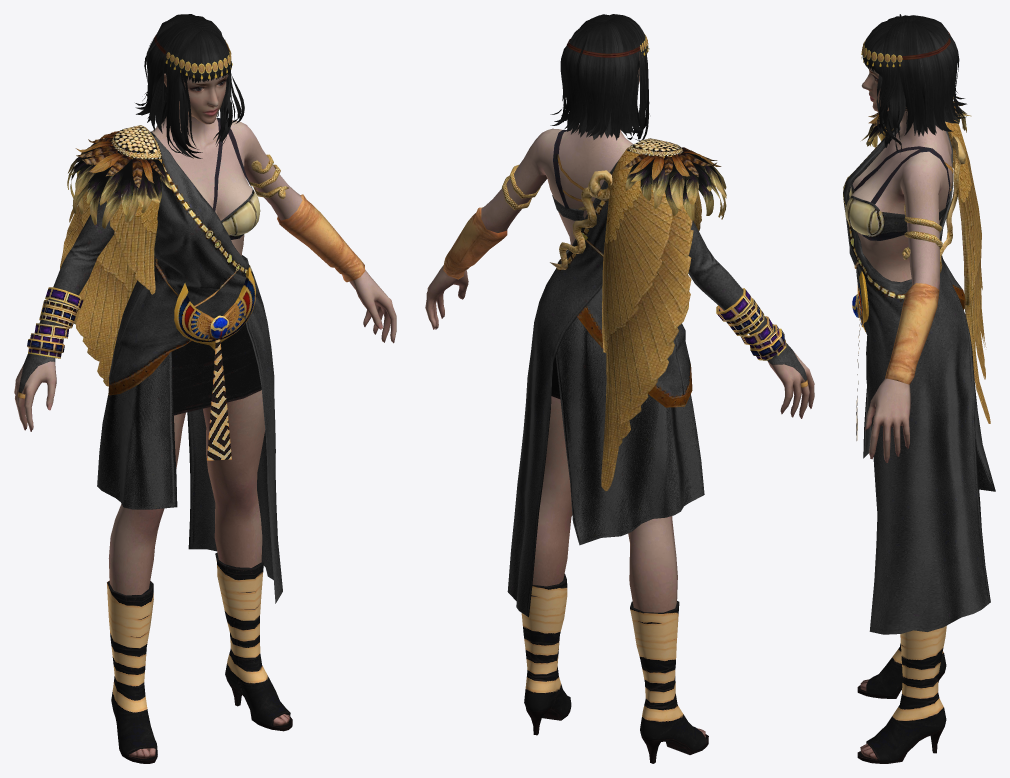
Rendered from ImperialEgypt_Female.fbx.
The picture shows the model from 3 angles, left to right: view 1: azimuth 30°, elevation 25°; view 2: azimuth 150°, elevation 25°; view 3: azimuth 270°, elevation 25°; orthographic projection. The views are drawn at different scales.
Parts seen in each view (by area): view 1: Female_Lobby_Top_Cos_Imperialegypt_0, Female_Lobby_Bottom_Cos_Imperialegypt_1, Female_Lobby_Shoe_Cos_Imperialegypt_0, Female_Lobby_Bottom_Cos_Imperialegypt_0, Female_Lobby_Top_Cos_Imperialegypt_1, Female_Lobby_Hair_Cos_Imperialegypt_0, Female_Lobby_Head_Cos_Imperialegypt_0, Female_Lobby_Hair_Cos_Imperialegypt_1; view 2: Female_Lobby_Top_Cos_Imperialegypt_0, Female_Lobby_Bottom_Cos_Imperialegypt_1, Female_Lobby_Shoe_Cos_Imperialegypt_0, Female_Lobby_Hair_Cos_Imperialegypt_0, Female_Lobby_Top_Cos_Imperialegypt_1, Female_Lobby_Bottom_Cos_Imperialegypt_0; view 3: Female_Lobby_Top_Cos_Imperialegypt_0, Female_Lobby_Top_Cos_Imperialegypt_1, Female_Lobby_Hair_Cos_Imperialegypt_0, Female_Lobby_Shoe_Cos_Imperialegypt_0, Female_Lobby_Bottom_Cos_Imperialegypt_1, Female_Lobby_Hair_Cos_Imperialegypt_1, Female_Lobby_Head_Cos_Imperialegypt_0.
Part boxes in pixels (x1,y1,x2,y2): Female_Lobby_Top_Cos_Imperialegypt_0: [17, 118, 364, 603]; Female_Lobby_Bottom_Cos_Imperialegypt_1: [97, 267, 261, 509]; Female_Lobby_Shoe_Cos_Imperialegypt_0: [107, 552, 292, 763]; Female_Lobby_Bottom_Cos_Imperialegypt_0: [108, 390, 289, 758]; Female_Lobby_Top_Cos_Imperialegypt_1: [14, 109, 396, 431]; Female_Lobby_Hair_Cos_Imperialegypt_0: [135, 14, 244, 158]; Female_Lobby_Head_Cos_Imperialegypt_0: [164, 70, 228, 124]; Female_Lobby_Hair_Cos_Imperialegypt_1: [154, 35, 232, 79]; Female_Lobby_Top_Cos_Imperialegypt_0: [443, 130, 808, 617]; Female_Lobby_Bottom_Cos_Imperialegypt_1: [551, 317, 704, 545]; Female_Lobby_Shoe_Cos_Imperialegypt_0: [521, 574, 708, 763]; Female_Lobby_Hair_Cos_Imperialegypt_0: [550, 14, 649, 140]; Female_Lobby_Top_Cos_Imperialegypt_1: [425, 124, 814, 418]; Female_Lobby_Bottom_Cos_Imperialegypt_0: [532, 396, 705, 737]; Female_Lobby_Top_Cos_Imperialegypt_0: [843, 96, 990, 634]; Female_Lobby_Top_Cos_Imperialegypt_1: [852, 111, 952, 462]; Female_Lobby_Hair_Cos_Imperialegypt_0: [862, 14, 966, 151]; Female_Lobby_Shoe_Cos_Imperialegypt_0: [857, 625, 946, 763]; Female_Lobby_Bottom_Cos_Imperialegypt_1: [852, 271, 995, 491]; Female_Lobby_Hair_Cos_Imperialegypt_1: [861, 31, 950, 67]; Female_Lobby_Head_Cos_Imperialegypt_0: [861, 67, 907, 111].
Size of the model in its own units: 54.41 by 98.26 by 19.34.
Materials: 7 (7 with a texture image).
